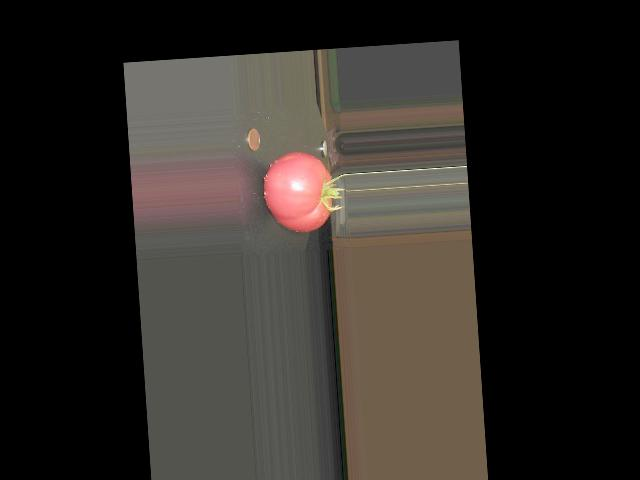tomato: (261, 150, 335, 235)
